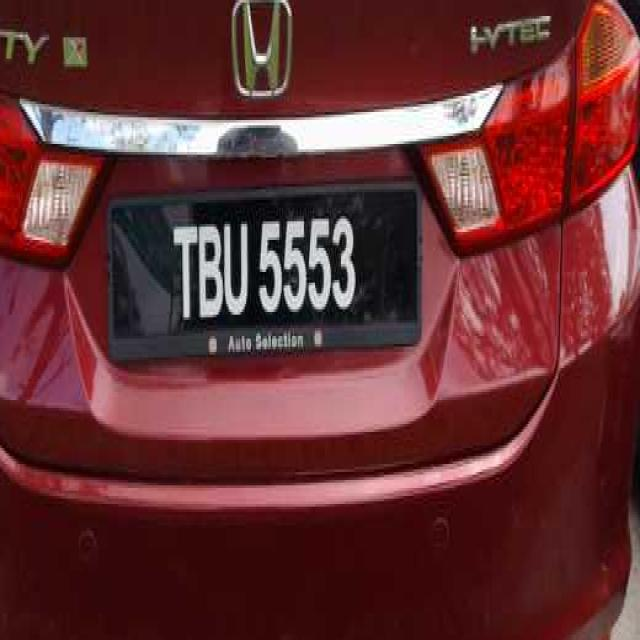car-plate: (97, 187, 430, 363)
